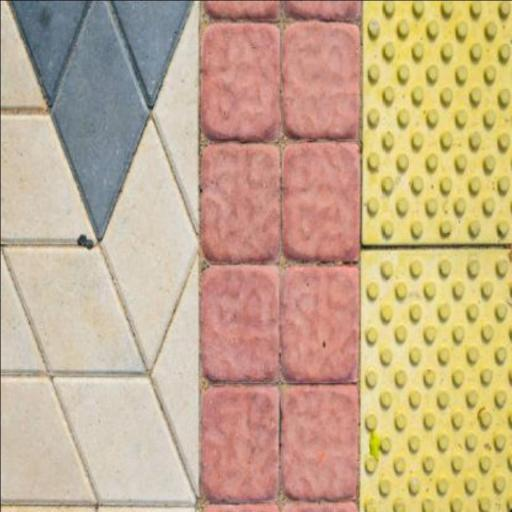dot: (360, 246, 511, 511), (361, 0, 511, 249)
